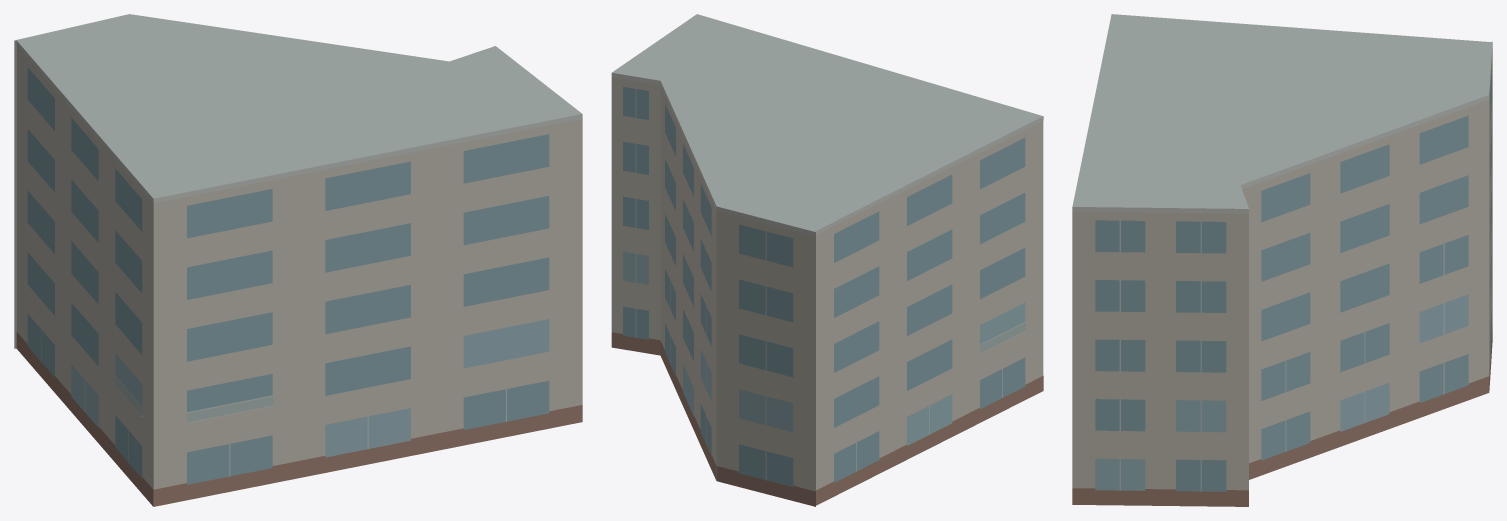
File: survey-upis-32682079.glb
The picture shows the model from 3 angles, left to right: view 1: azimuth 30°, elevation 25°; view 2: azimuth 150°, elevation 25°; view 3: azimuth 270°, elevation 25°; orthographic projection. The views are drawn at different scales.
Parts seen in each view (by area): view 1: survey-upis-32682079.tmp; view 2: survey-upis-32682079.tmp; view 3: survey-upis-32682079.tmp.
Part boxes in pixels (box(x1,y1,x2,y2)): survey-upis-32682079.tmp: box(14, 14, 582, 506); survey-upis-32682079.tmp: box(611, 14, 1043, 506); survey-upis-32682079.tmp: box(1072, 14, 1492, 506).
Size of the model in its own units: 21.41 by 15.25 by 19.51.
